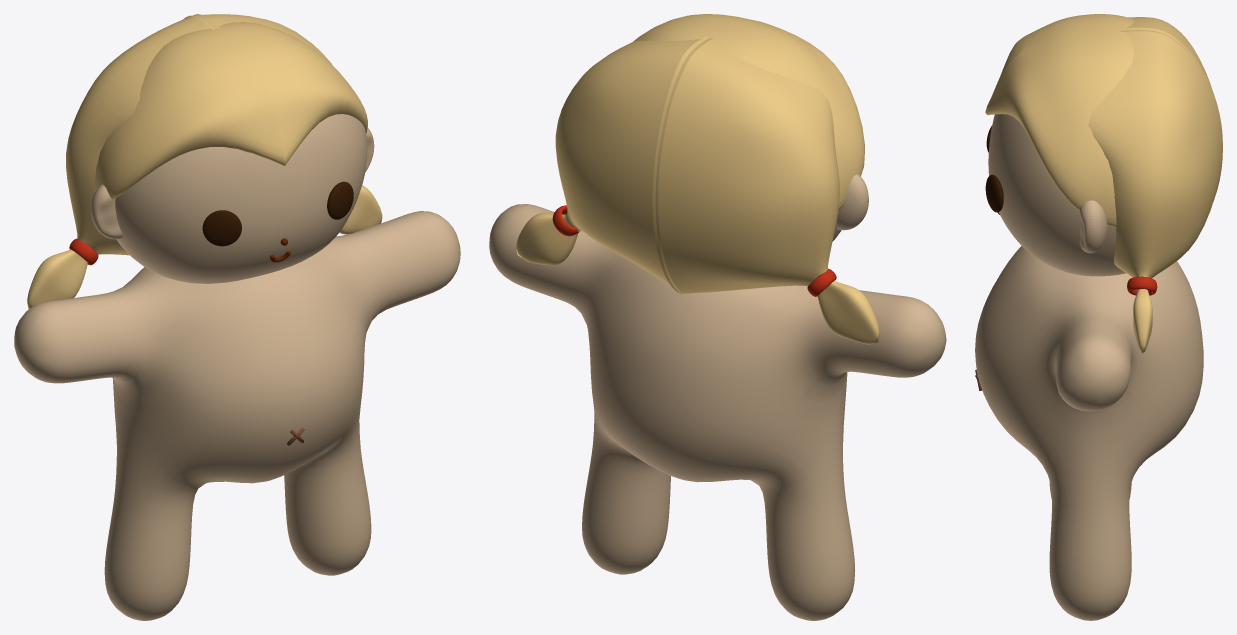
The model's file is M_Poupee.fbx.
The picture shows the model from 3 angles, left to right: view 1: azimuth 30°, elevation 25°; view 2: azimuth 150°, elevation 25°; view 3: azimuth 270°, elevation 25°; orthographic projection. The views are drawn at different scales.
Visible parts, largest first — view 1: Roundcube.001; view 2: Roundcube.001; view 3: Roundcube.001.
Part boxes in pixels (x1=…): Roundcube.001: x1=14, y1=14, x2=460, y2=620; Roundcube.001: x1=489, y1=14, x2=946, y2=620; Roundcube.001: x1=975, y1=14, x2=1222, y2=620.
Bounding box in the file's own units: 345 × 420 × 174.
